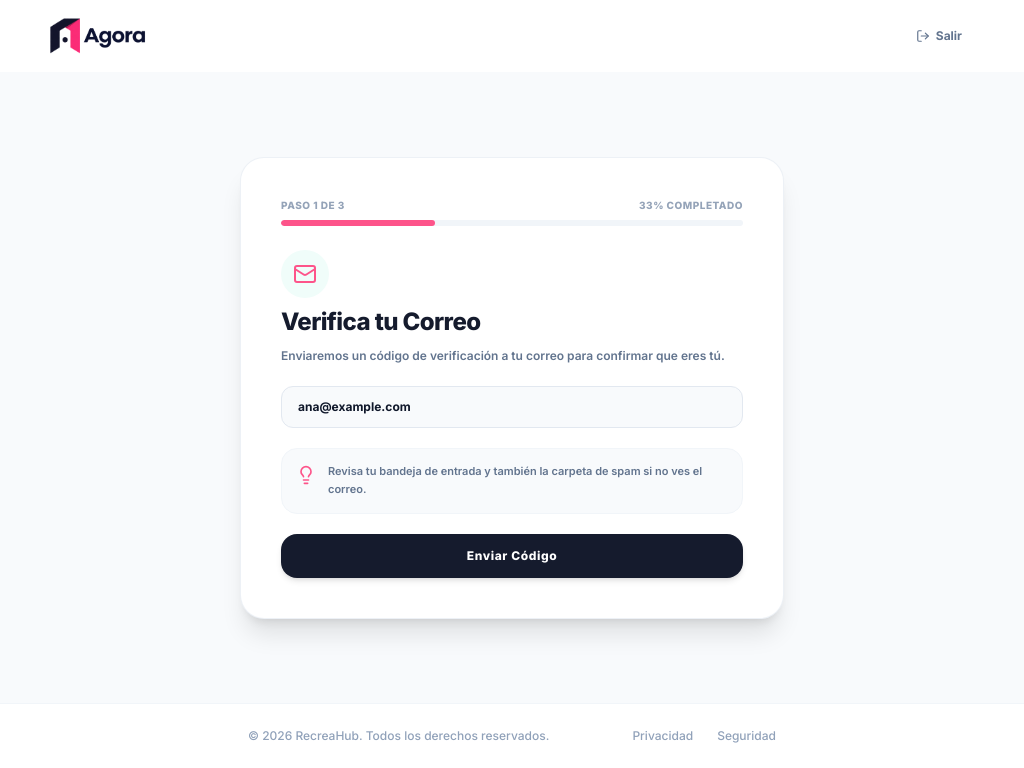
verificación del correo › valida el código automáticamente al completar los seis dígitos
The width and height of the screenshot is (1024, 768).
Click the button "Enviar Código": [512, 556] box [281,534,743,578]
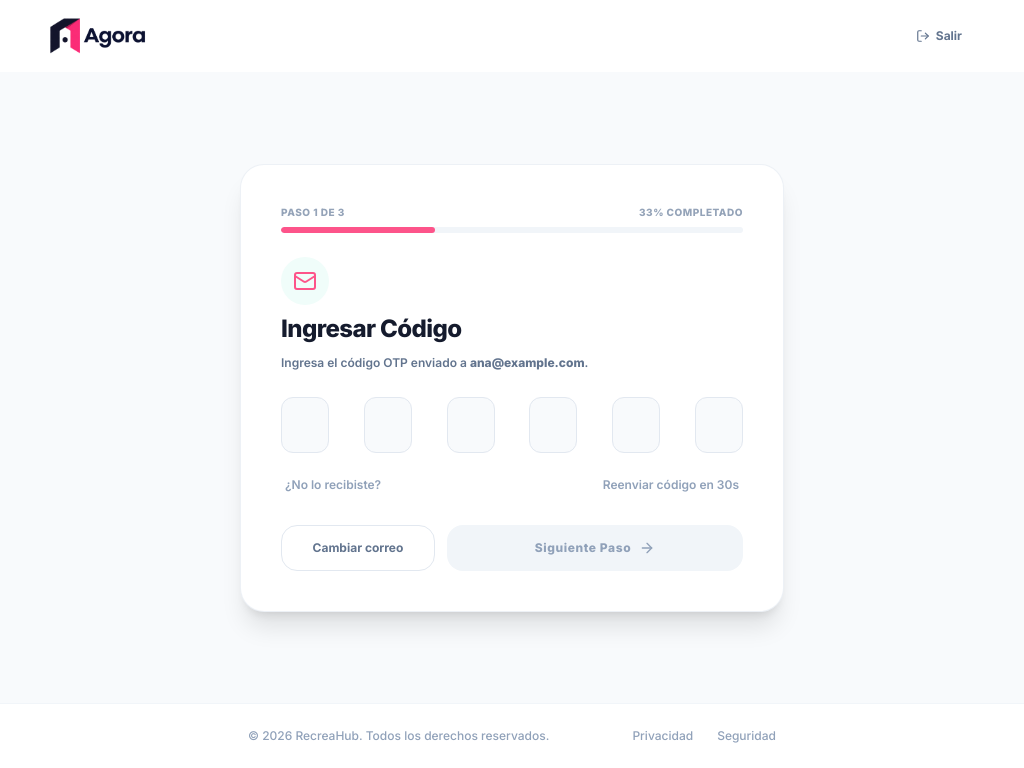
Now the heading "Ingresar Código" is shown, box [281,314,462,343]
In the 1st field: [305, 425] box [281,397,329,453], type "1"
In the 2nd field: [388, 425] box [364,397,412,453], type "2"
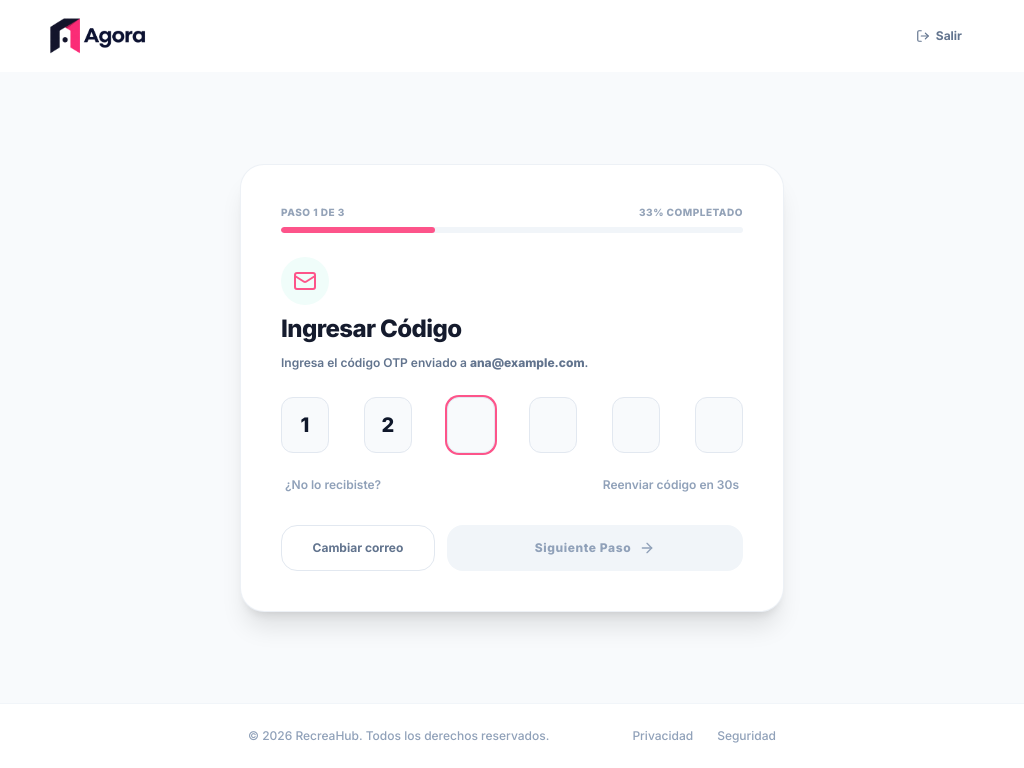
In the 3rd field: [471, 425] box [447,397,495,453], type "3"
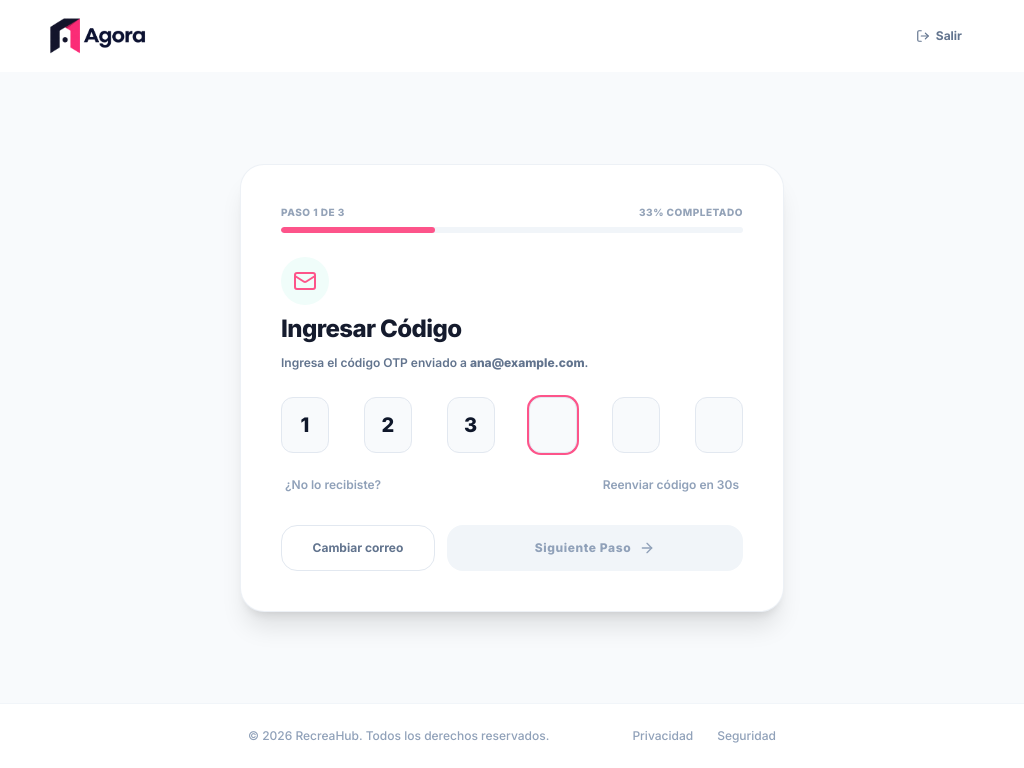
In the 4th field: [553, 425] box [529,397,577,453], type "4"
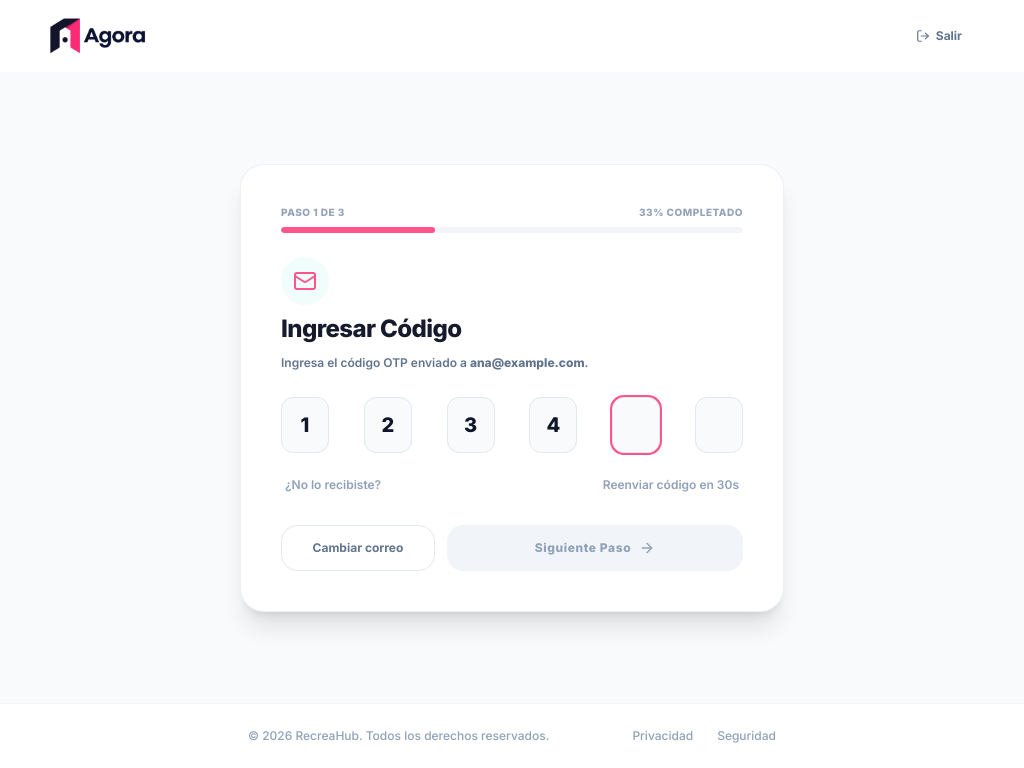
In the 5th field: [636, 425] box [612,397,660,453], type "5"
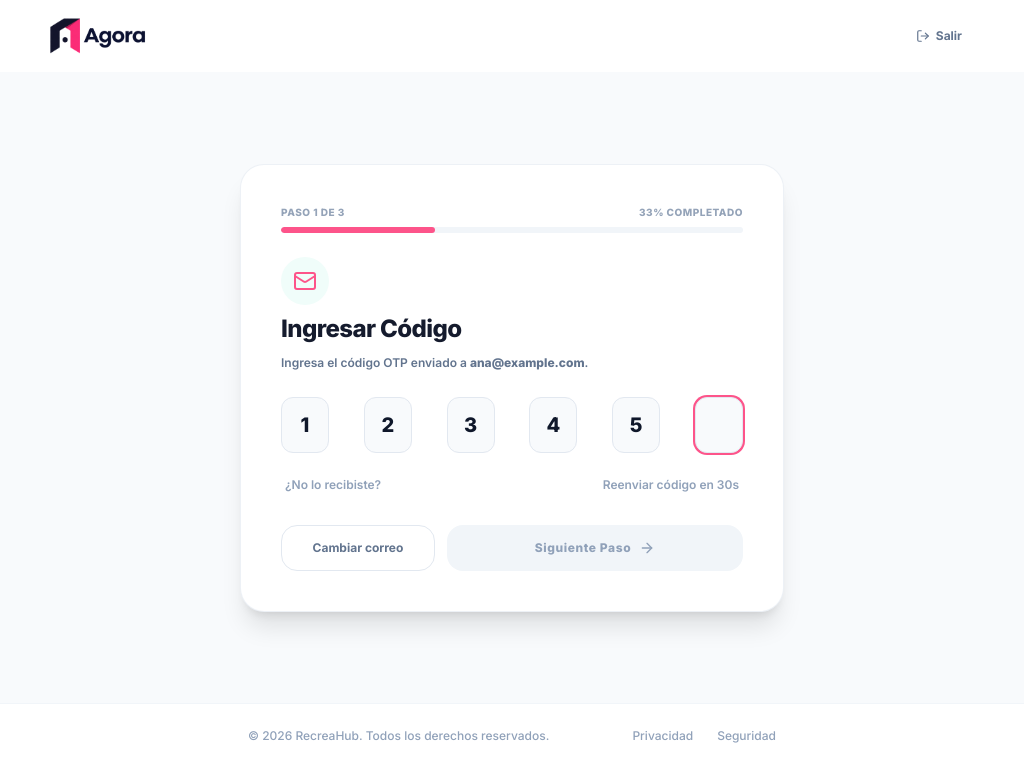
In the 6th field: [719, 425] box [695,397,743,453], type "6"
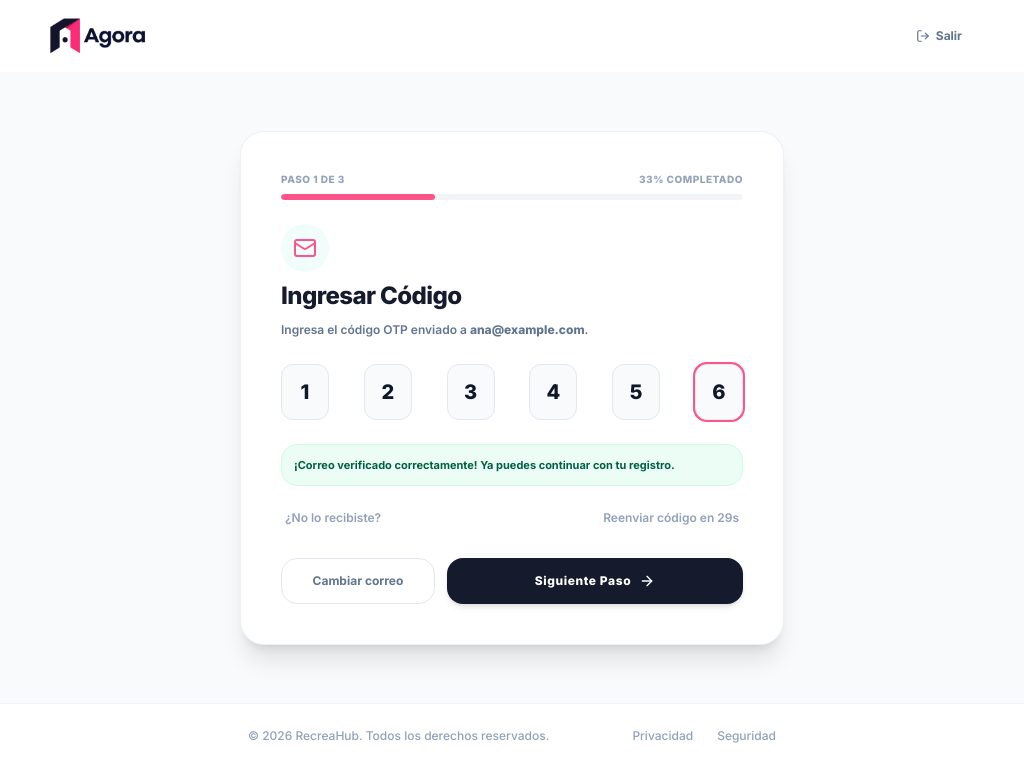
Now the text "¡Correo verificado correctamente!" is shown, box [294,458,675,472]
